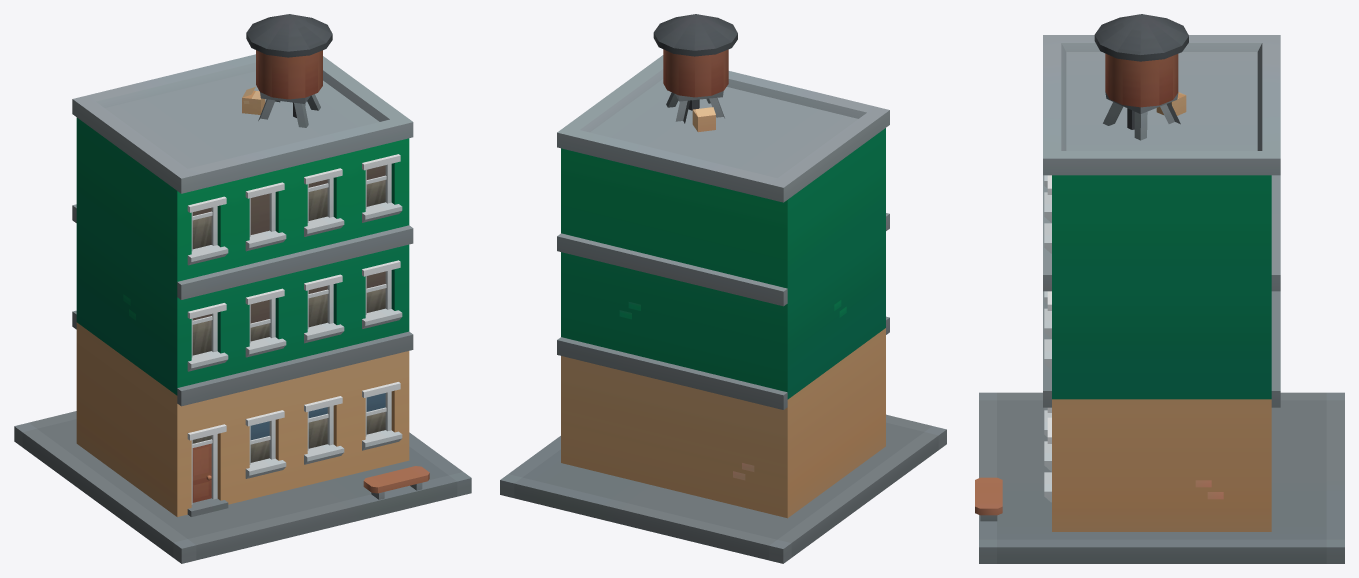
Rendered from kkcity.building_d.glb.
3 renders of one model, left to right at view 1: azimuth 30°, elevation 25°; view 2: azimuth 150°, elevation 25°; view 3: azimuth 270°, elevation 25°, orthographic. The views are drawn at different scales.
Visible parts, largest first — view 1: building_D; view 2: building_D; view 3: building_D.
Part boxes in pixels (x1,y1,x2,y2): building_D: (14, 14, 471, 563); building_D: (500, 14, 946, 563); building_D: (975, 14, 1344, 563).
Bounding box in the file's own units: 9.6 × 14.25 × 9.69.
Materials: 1 (1 with a texture image).
